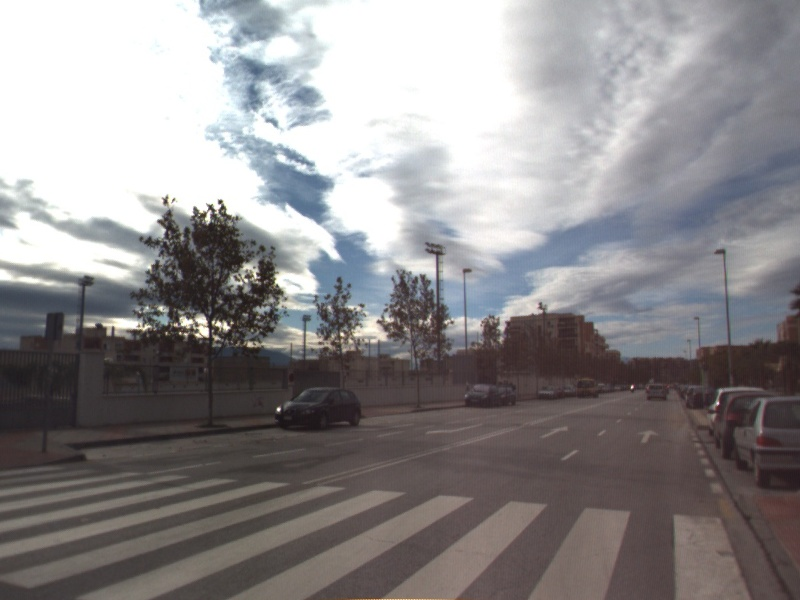STRAIGHT: (537, 423, 570, 440), (635, 427, 662, 445)
